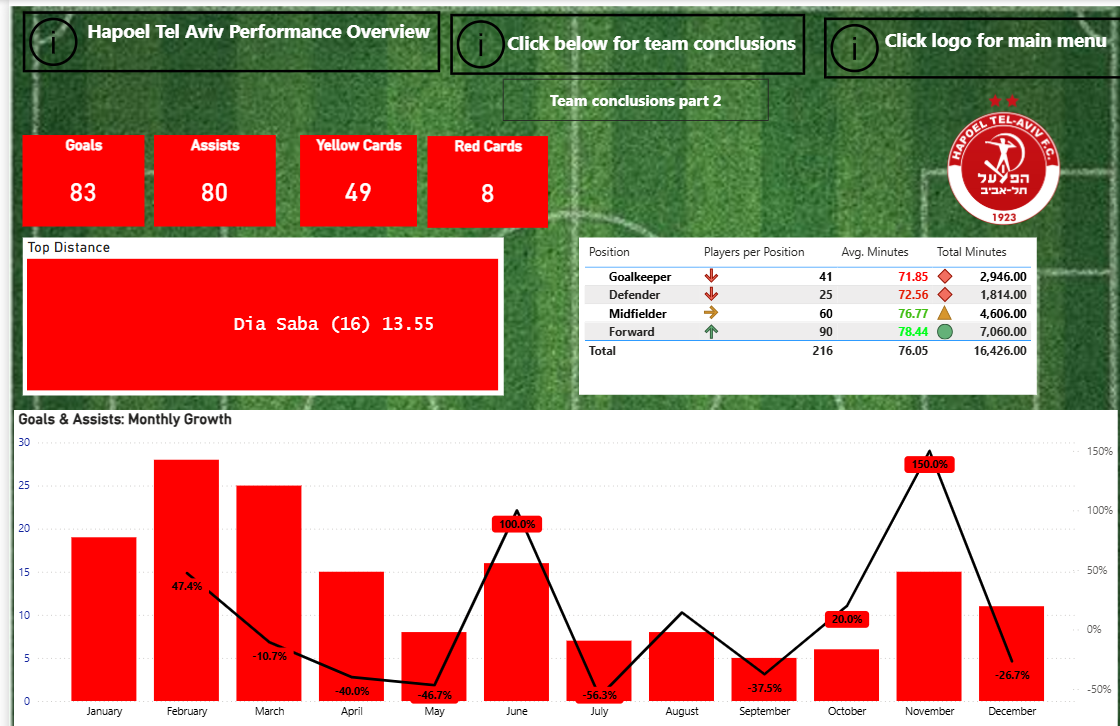

The page's visual inventory and layout, read from the dashboard file:
{"tool":"powerbi","page":{"name":"Hapoel Tel Aviv satistics","canvas":[1280,850],"ordinal":5},"visuals":[{"type":"image","box":[1032.6,105.4,200.8,152.4],"z":0},{"type":"kpi","title":"Red Cards","fields":{"Indicator":["!Measures.sum_redCards"],"TrendLine":["Data_football.Team"]},"box":[477.1,155.2,136.7,104],"z":1000},{"type":"actionButton","box":[15.7,12.8,475.7,69.8],"z":2000},{"type":"textbox","box":[84,15.7,438.7,74.1],"z":3000},{"type":"lineStackedColumnComboChart","title":"Goals & Assists: Monthly Growth","fields":{"Y":["!Measures.Total_goals_assists"],"Y2":["!Measures.Next_Month_Change"],"Category":["DimDate.Month Name"]},"box":[5.7,467.2,1257.6,361.8],"z":4000},{"type":"ScrollingTextVisual1448795304508","title":"Top Distance","fields":{"Measure Absolute":["!Measures.Max_Distance_In_Single_Game"],"Category":["Data_football.Player_With_ID"]},"box":[15.7,270.6,546.9,179.5],"z":5000},{"type":"kpi","title":"Yellow Cards","fields":{"TrendLine":["Data_football.Team"],"Indicator":["!Measures.Yellow_Cards_sum"]},"box":[331.9,153.8,132.5,104],"z":6000},{"type":"kpi","title":"Assists","fields":{"TrendLine":["Data_football.Team"],"Indicator":["!Measures.Assists"]},"box":[165.2,153.8,138.2,104],"z":7000},{"type":"kpi","title":"Goals","fields":{"TrendLine":["Data_football.Team"],"Indicator":["!Measures.goals"]},"box":[15.7,153.8,138.2,104],"z":8000},{"type":"actionButton","box":[928.6,19.9,346.1,69.8],"z":9000},{"type":"textbox","box":[992.7,25.6,282,61.2],"z":10000},{"type":"tableEx","fields":{"Values":["Data_football.Position","CountNonNull(Data_football.Position)","Data_football.Minutes_Played1","Data_football.Minutes_Played"]},"box":[649.5,270.6,521.3,179.5],"z":11000},{"type":"pageNavigator","box":[562.6,89.7,303.4,48.4],"z":12000},{"type":"actionButton","box":[502.8,15.7,404.5,69.8],"z":13000},{"type":"textbox","box":[562.6,28.5,347.5,39.9],"z":14000}]}

Visuals, with their boxes in screenshot pixels (x1, y1, x2, y2), scaled from the page's 1280x850 canvas onto the 1120x726 screenshot:
image: box=[904, 90, 1079, 220]
"Red Cards" kpi: box=[417, 133, 537, 221]
actionButton: box=[14, 11, 430, 71]
textbox: box=[74, 13, 457, 77]
"Goals & Assists: Monthly Growth" lineStackedColumnComboChart: box=[5, 399, 1105, 708]
"Top Distance" ScrollingTextVisual1448795304508: box=[14, 231, 492, 384]
"Yellow Cards" kpi: box=[290, 131, 406, 220]
"Assists" kpi: box=[145, 131, 265, 220]
"Goals" kpi: box=[14, 131, 135, 220]
actionButton: box=[813, 17, 1115, 77]
textbox: box=[869, 22, 1115, 74]
tableEx - Data_football.Position x CountNonNull(Data_football.Position): box=[568, 231, 1024, 384]
pageNavigator: box=[492, 77, 758, 118]
actionButton: box=[440, 13, 794, 73]
textbox: box=[492, 24, 796, 58]
